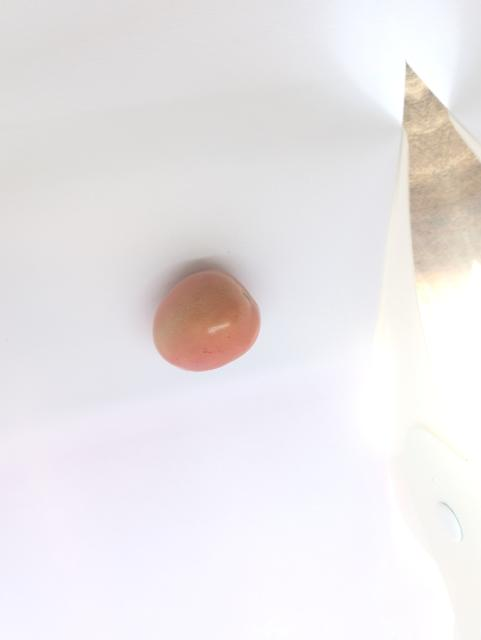turning: (147, 265, 272, 380)
